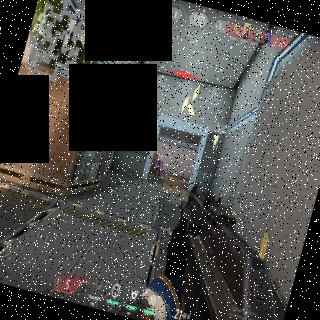ENEMY-HEAD: (158, 157, 162, 162)
